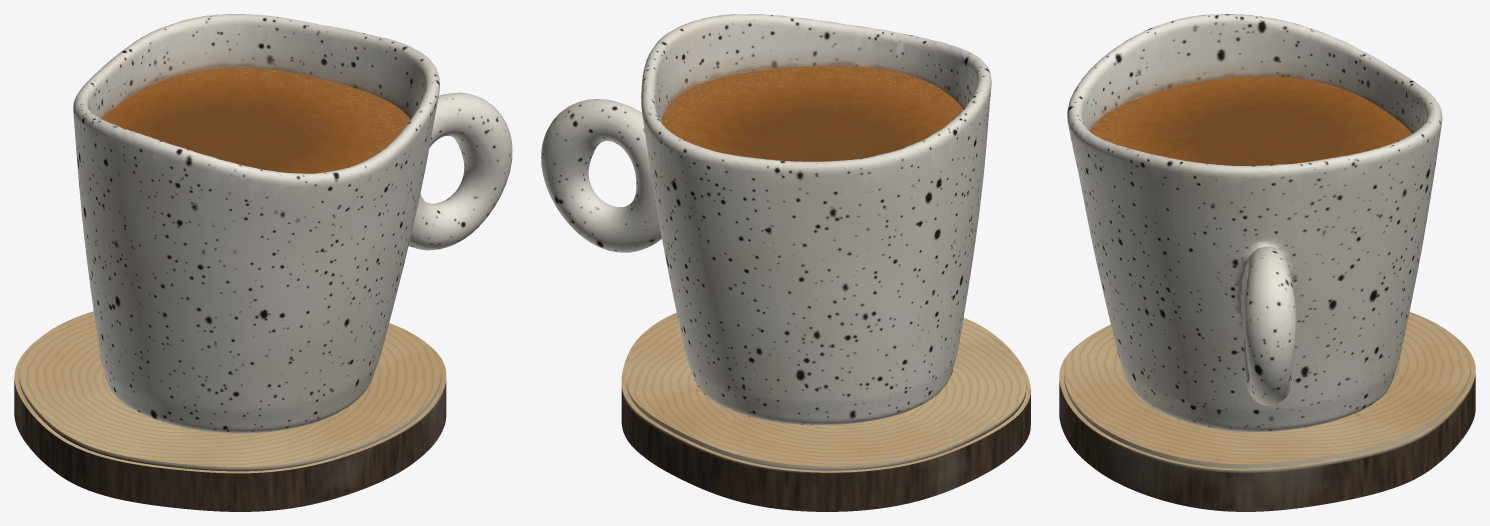
Rendered from mug.glb.
3 views of the same model, side by side, from view 1: azimuth 30°, elevation 25°; view 2: azimuth 150°, elevation 25°; view 3: azimuth 270°, elevation 25° (orthographic).
Parts seen in each view (by area): view 1: Mug_Body, Mug_Coaster, Mug_Coffee; view 2: Mug_Body, Mug_Coaster, Mug_Coffee; view 3: Mug_Body, Mug_Coaster, Mug_Coffee.
Part boxes in pixels (bbox=[...]): Mug_Body: bbox=[73, 14, 512, 433]; Mug_Coaster: bbox=[14, 311, 446, 511]; Mug_Coffee: bbox=[102, 67, 410, 173]; Mug_Body: bbox=[541, 14, 991, 425]; Mug_Coaster: bbox=[621, 313, 1030, 511]; Mug_Coffee: bbox=[662, 65, 963, 161]; Mug_Body: bbox=[1067, 14, 1442, 432]; Mug_Coaster: bbox=[1059, 312, 1475, 511]; Mug_Coffee: bbox=[1090, 76, 1412, 165].
Size of the model in its own units: 0.1464 by 0.1047 by 0.1144.
Materials: 3 (3 with a texture image).
